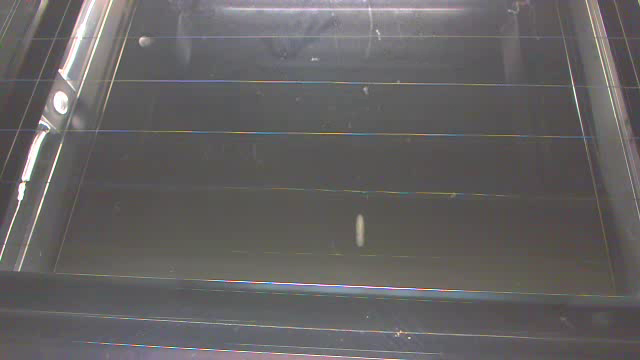alpha: (355, 212, 366, 247), (138, 37, 153, 48)
